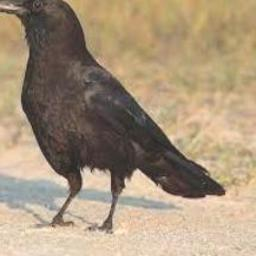Crow: (0, 0, 225, 233)
